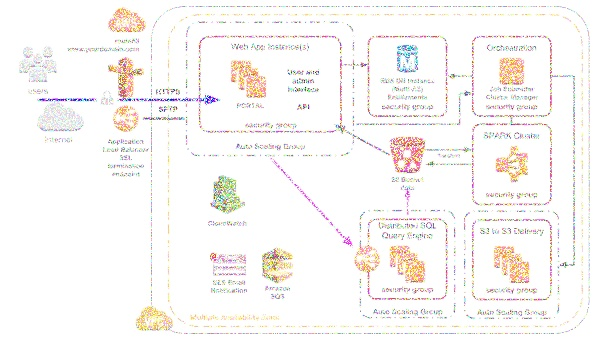Cloud Watch: (206, 170, 251, 217)
Dynamo DB: (393, 41, 424, 74)
EC2: (489, 240, 535, 285), (226, 57, 268, 100), (388, 242, 429, 284)
ELB: (110, 103, 142, 134), (352, 244, 381, 274)
Internet: (35, 101, 89, 134)
Route53: (106, 54, 147, 100)
S3: (386, 134, 428, 175)
SES: (205, 247, 251, 281)
SQS: (259, 241, 297, 287)
Security Group: (492, 139, 532, 183)
Users: (16, 40, 62, 85)
aws: (103, 4, 149, 35)
